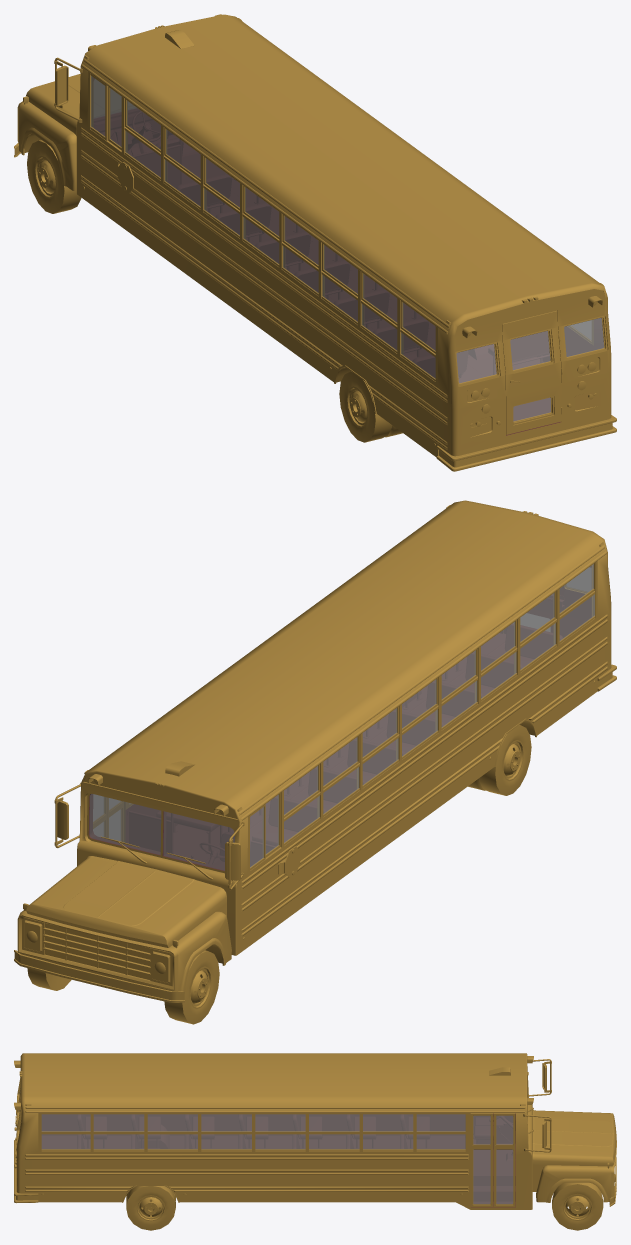
Rendered from School Bus Dirty.fbx.
3 renders of one model, top to bottom at view 1: azimuth 30°, elevation 25°; view 2: azimuth 150°, elevation 25°; view 3: azimuth 270°, elevation 25°, orthographic. The views are drawn at different scales.
Parts seen in each view (by area): view 1: Bus_Exterior, Door_3, Left_Tire, Back_Axle, polySurface461, polySurface454, polySurface447, polySurface465, polySurface441, polySurface463, polySurface438, polySurface485 (+10 smaller); view 2: Bus_Exterior, Left_Tire, Back_Axle, polySurface442, polySurface463, polySurface465, polySurface447, polySurface441, polySurface433, polySurface485, polySurface461, polySurface438 (+9 smaller); view 3: Bus_Exterior, Door_1, Door_2, Right_Tire, Back_Axle, polySurface379, polySurface423, polySurface392, polySurface426, polySurface414, polySurface400, polySurface410 (+9 smaller).
Boxes of the visible parts, x1,y1,x2,y2 form: Bus_Exterior: (14, 14, 616, 471); Door_3: (502, 310, 562, 434); Left_Tire: (27, 140, 81, 213); Back_Axle: (339, 371, 402, 442); polySurface461: (242, 213, 279, 266); polySurface454: (90, 73, 108, 140); polySurface447: (203, 156, 239, 210); polySurface465: (282, 214, 318, 267); polySurface441: (164, 127, 200, 181); polySurface463: (243, 185, 279, 238); polySurface438: (164, 155, 200, 209); polySurface485: (361, 272, 397, 325); Bus_Exterior: (14, 500, 616, 1002); Left_Tire: (164, 950, 219, 1024); Back_Axle: (468, 725, 531, 795); polySurface442: (362, 734, 399, 787); polySurface463: (402, 677, 438, 731); polySurface465: (441, 649, 477, 702); polySurface447: (362, 706, 398, 759); polySurface441: (323, 735, 359, 788); polySurface433: (284, 791, 320, 845); polySurface485: (520, 591, 556, 644); polySurface461: (402, 705, 438, 759); polySurface438: (323, 763, 359, 816); Bus_Exterior: (14, 1053, 616, 1209); Door_1: (470, 1113, 493, 1206); Door_2: (493, 1113, 515, 1206); Right_Tire: (552, 1182, 603, 1230); Back_Axle: (126, 1186, 175, 1230); polySurface379: (93, 1113, 144, 1133); polySurface423: (309, 1113, 359, 1133); polySurface392: (201, 1113, 251, 1133); polySurface426: (255, 1113, 305, 1133); polySurface414: (363, 1113, 413, 1133); polySurface400: (147, 1113, 197, 1133); polySurface410: (416, 1113, 465, 1133).
Size of the model in its own units: 266 by 272 by 1101.
